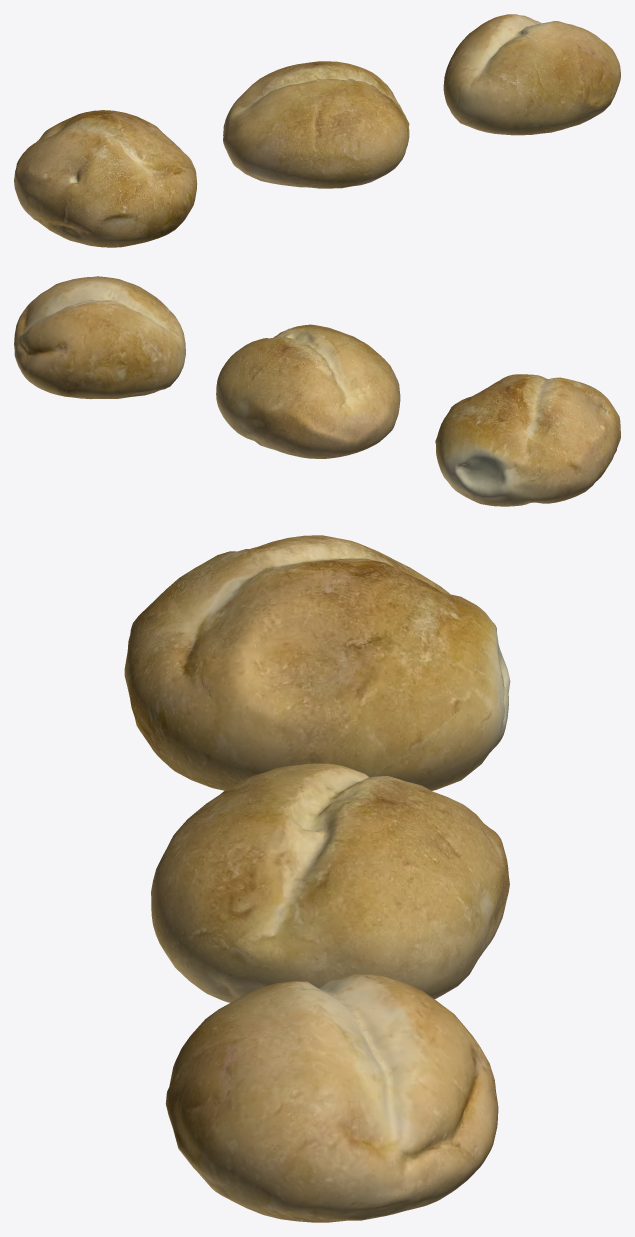
File: brioche-buns.glb
3 renders of one model, top to bottom at view 1: azimuth 30°, elevation 25°; view 2: azimuth 150°, elevation 25°; view 3: azimuth 270°, elevation 25°, orthographic. The views are drawn at different scales.
Visible parts, largest first — view 1: hamburger_buns_01; view 2: hamburger_buns_01; view 3: hamburger_buns_01.
Boxes of the visible parts, <box> form: hamburger_buns_01: <box>14,14,620,247</box>; hamburger_buns_01: <box>14,276,620,506</box>; hamburger_buns_01: <box>124,535,510,1222</box>.
Bounding box in the file's own units: 0.3972 × 0.0634 × 0.1138.
Materials: 1 (1 with a texture image).
